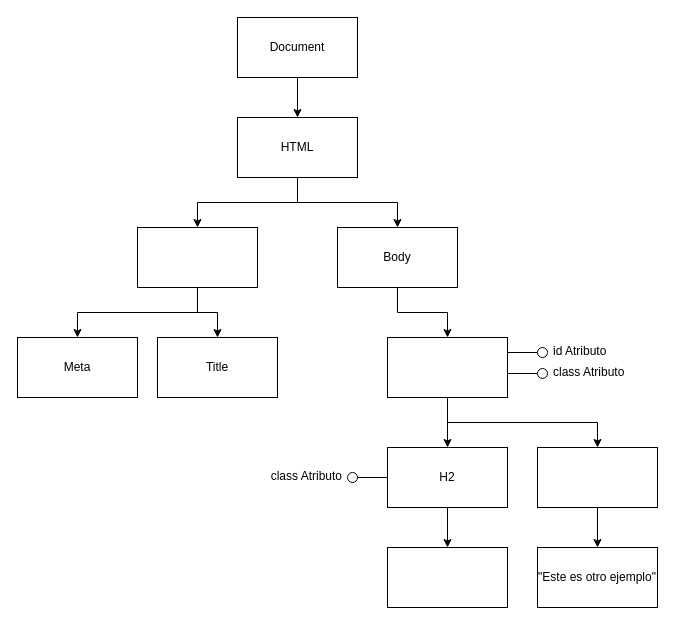
Some shapes in this 675 by 625 pixel diagram are drawn without their labels. Each missing label, with the box of its shape:
"Ejemplo nodos": (386, 546, 508, 608)
Div: (386, 336, 508, 398)
H3: (536, 446, 658, 508)
Head: (136, 226, 258, 288)
